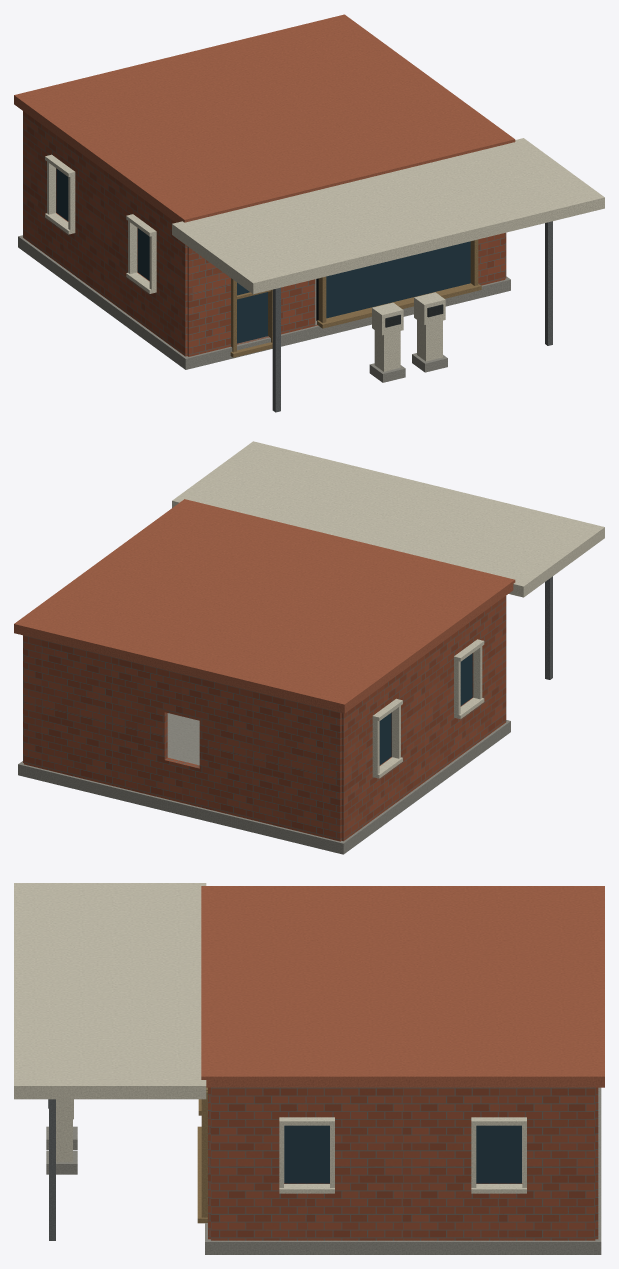
Rendered from GASA2_lod2.glb.
The picture shows the model from 3 angles, top to bottom: view 1: azimuth 30°, elevation 25°; view 2: azimuth 150°, elevation 25°; view 3: azimuth 270°, elevation 25°; orthographic projection. The views are drawn at different scales.
Parts seen in each view (by area): view 1: GASA2_LOD2; view 2: GASA2_LOD2; view 3: GASA2_LOD2.
Part boxes in pixels (x1,y1,x2,y2): GASA2_LOD2: (14,14,604,412); GASA2_LOD2: (14,441,604,854); GASA2_LOD2: (14,883,604,1254).
Size of the model in its own units: 10 by 4.12 by 12.3.
Materials: 9 (7 with a texture image).
